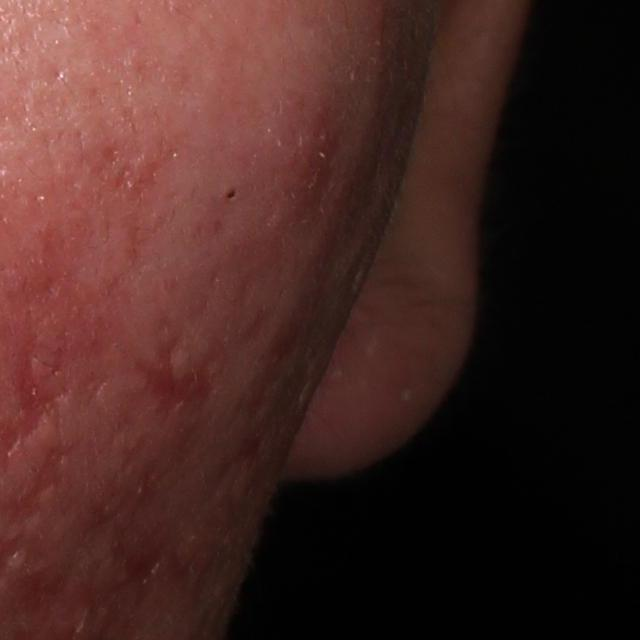atrophic_scar: (129, 325, 211, 413), (120, 530, 182, 587)
comedo: (216, 183, 240, 208)
